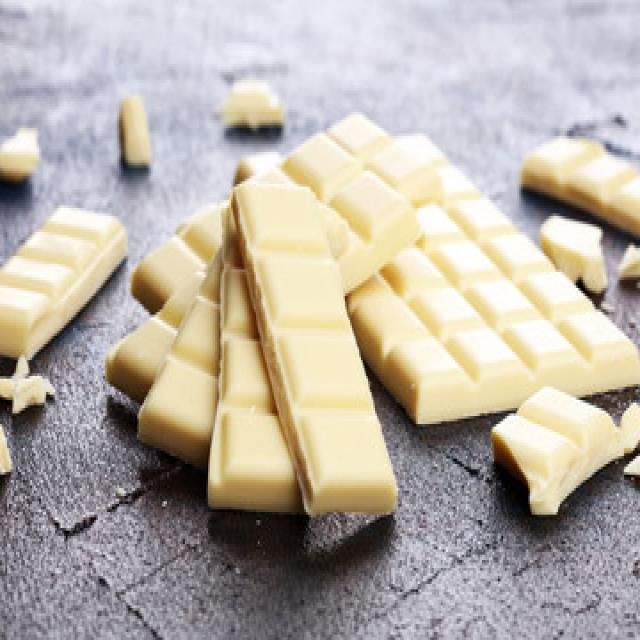Chocolate: (106, 114, 640, 523), (0, 200, 130, 355), (522, 136, 640, 240)
